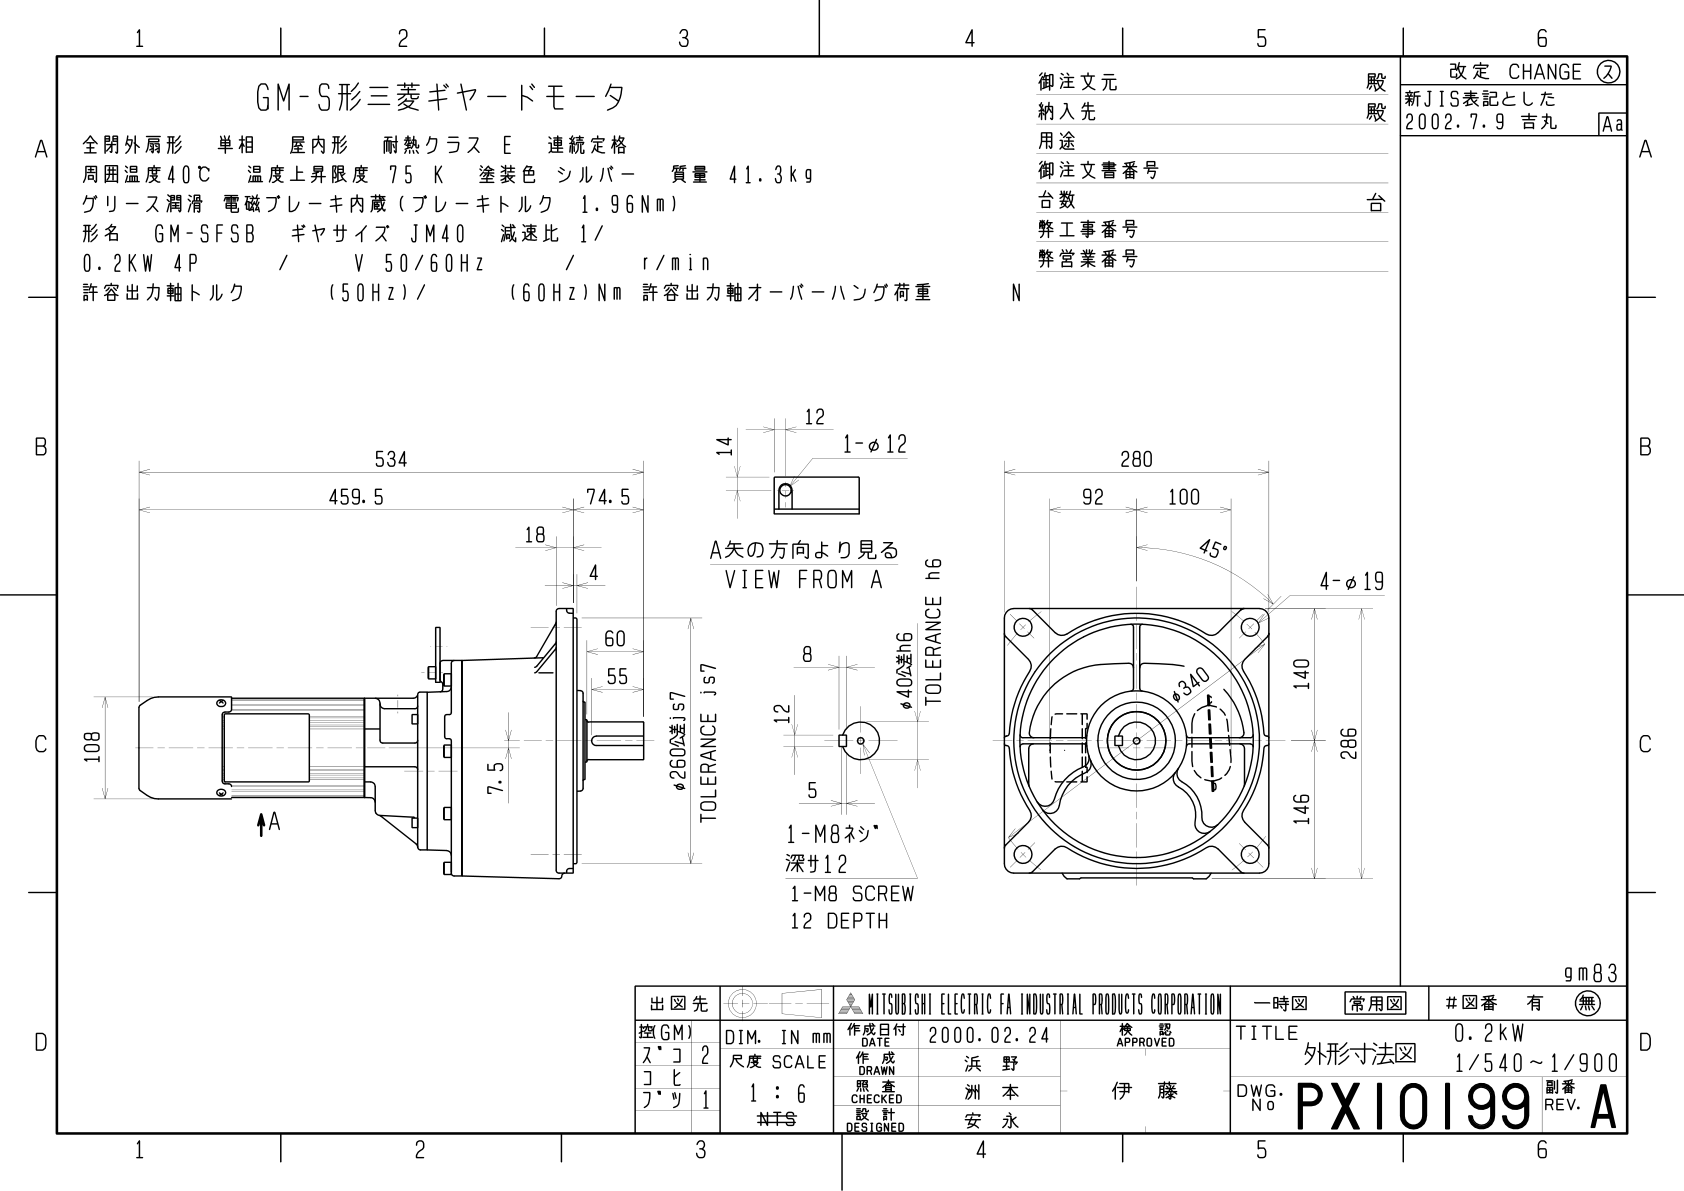GM_S_屋内＿単相_フランジ: (71, 367, 1389, 953)
